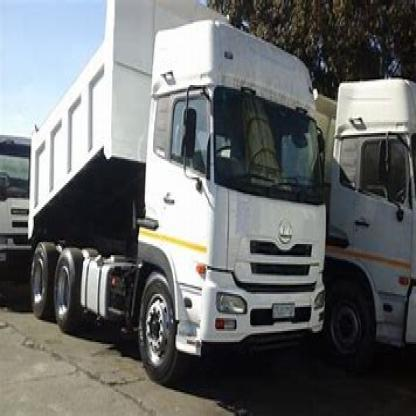dump_truck: (12, 2, 336, 373)
